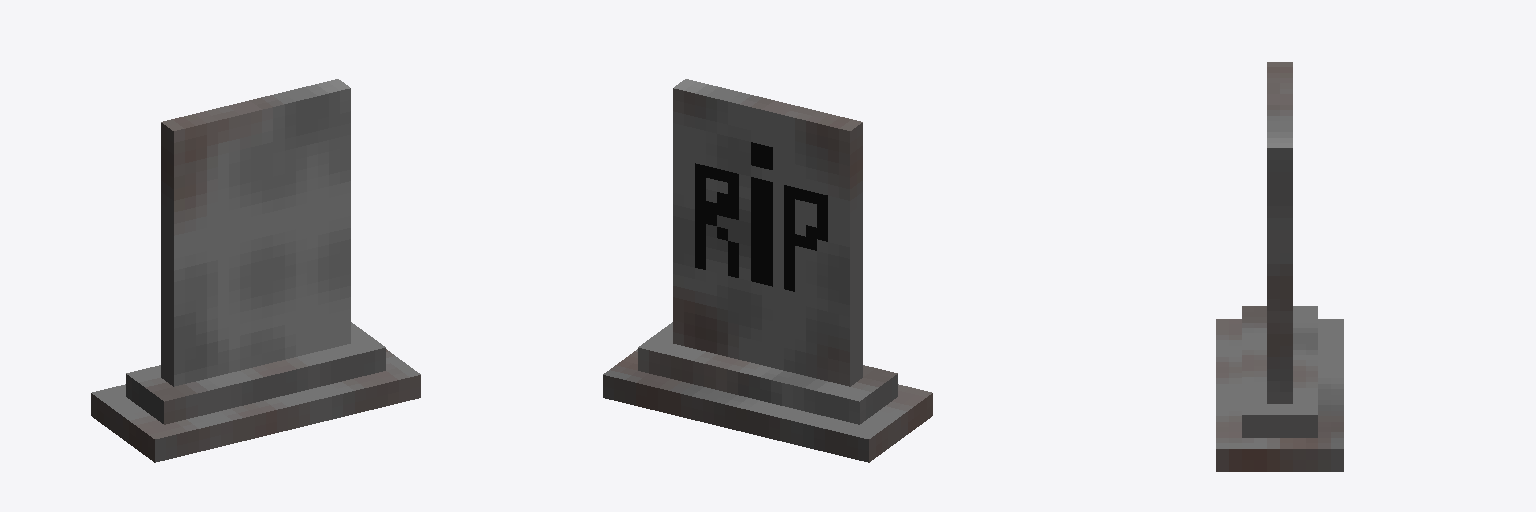
3 views of the same model, side by side, from view 1: azimuth 30°, elevation 25°; view 2: azimuth 150°, elevation 25°; view 3: azimuth 270°, elevation 25° (orthographic).
Visible parts, largest first — view 1: cube; view 2: cube; view 3: cube.
Boxes of the visible parts, box(x1,y1,x2,y2) form: cube: box(91, 79, 420, 462); cube: box(603, 79, 932, 462); cube: box(1216, 62, 1343, 471).
Bounding box in the file's own units: 0.75 × 0.8125 × 0.3125.
Materials: 1 (1 with a texture image).